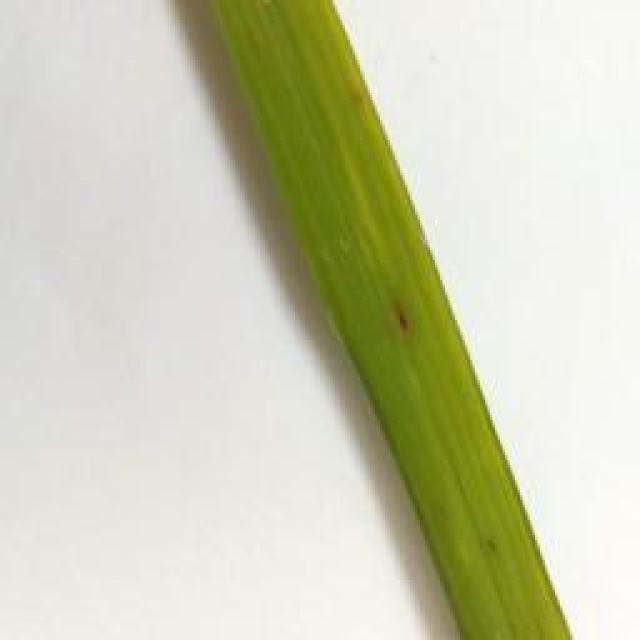Brown_Spot: (385, 290, 413, 340)
